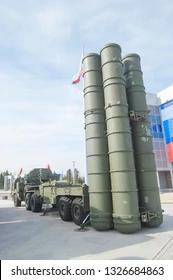MIL_SAM_TEL: (22, 40, 166, 234)
